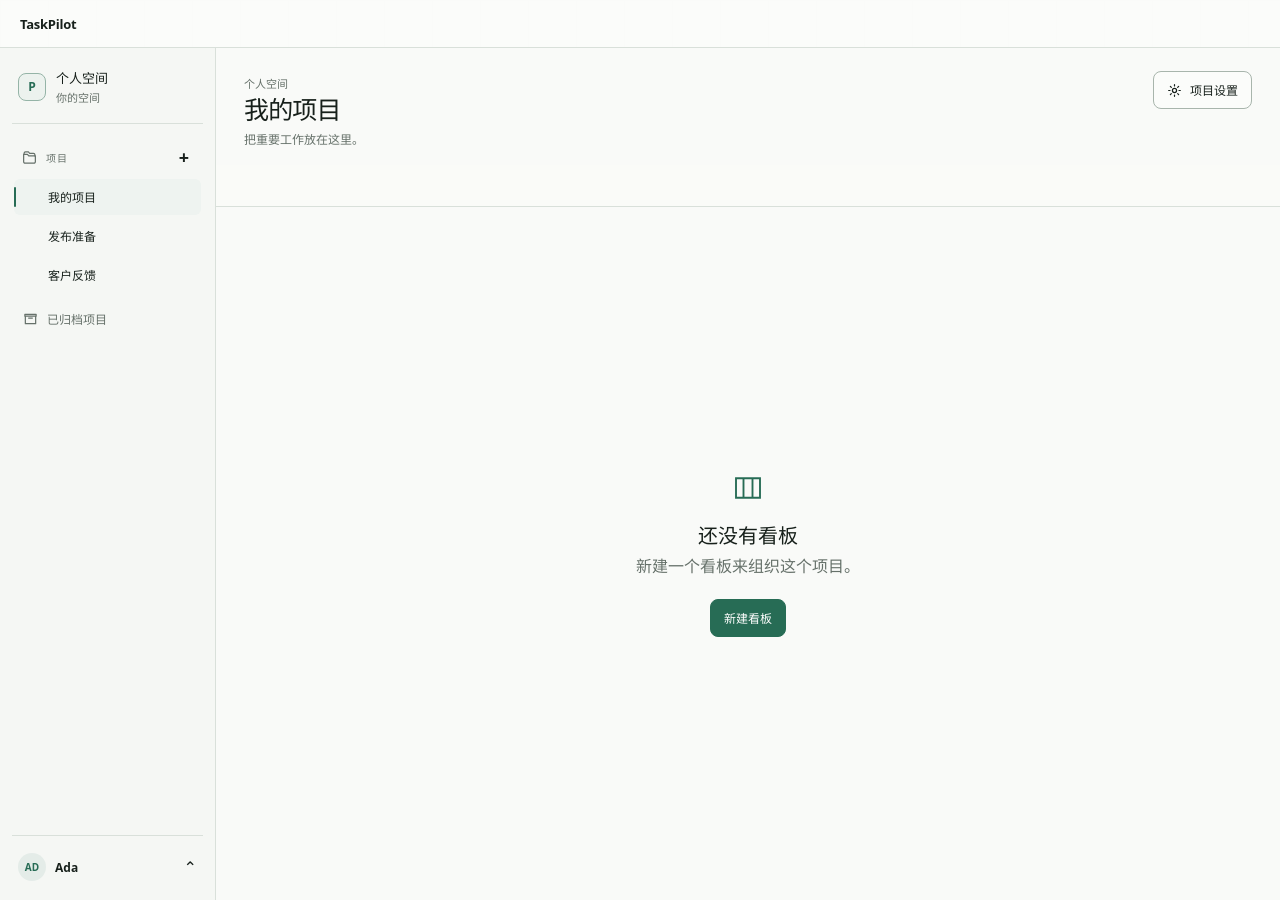
Test: personal Workspace Project home › loads every archived Project page before presenting the archive
The image size is (1280, 900).
Click the button "已归档项目": (108, 319) [12, 301, 203, 337]
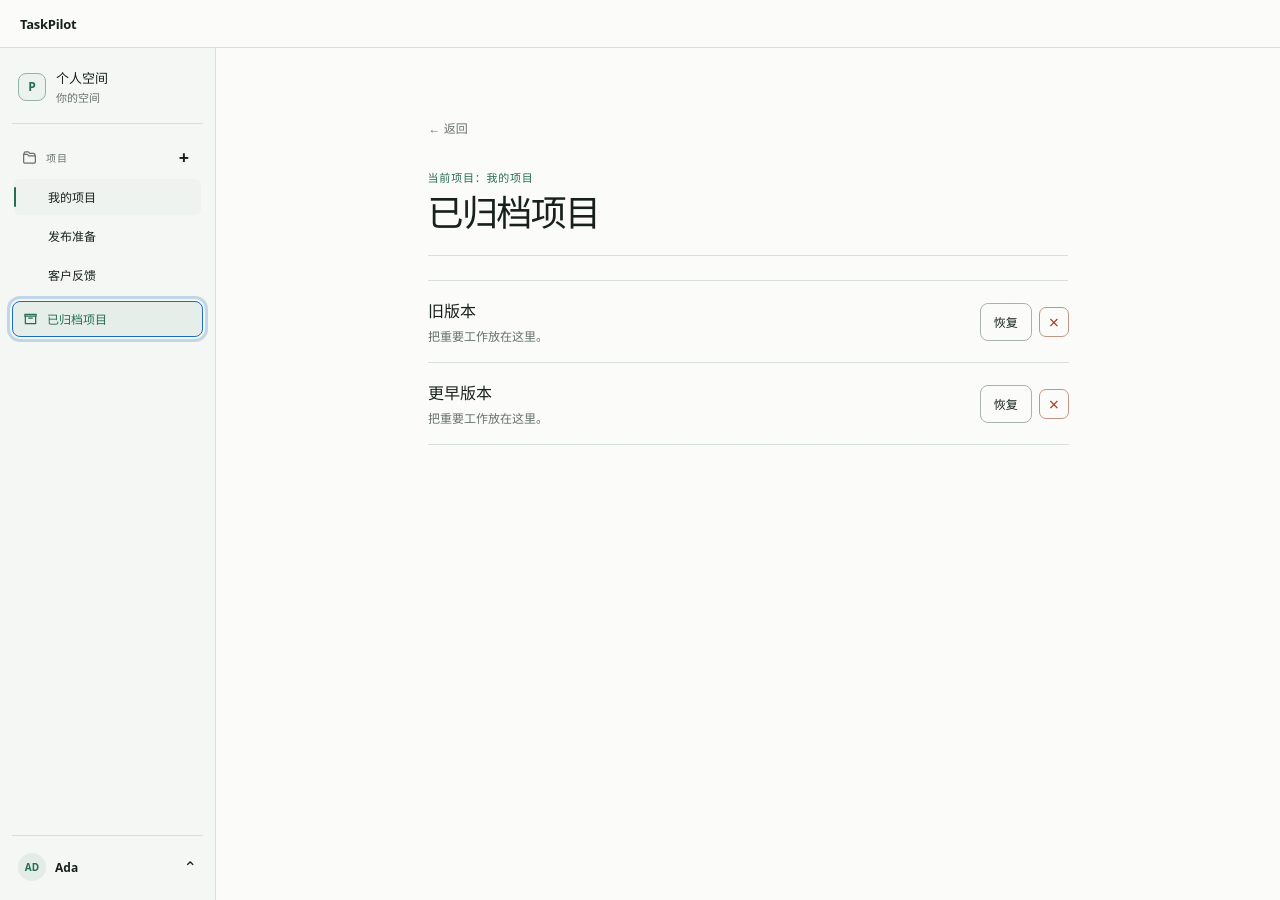
Result: the text "旧版本" is shown at [428, 300, 476, 322]
Result: the text "更早版本" is shown at [428, 382, 492, 404]
